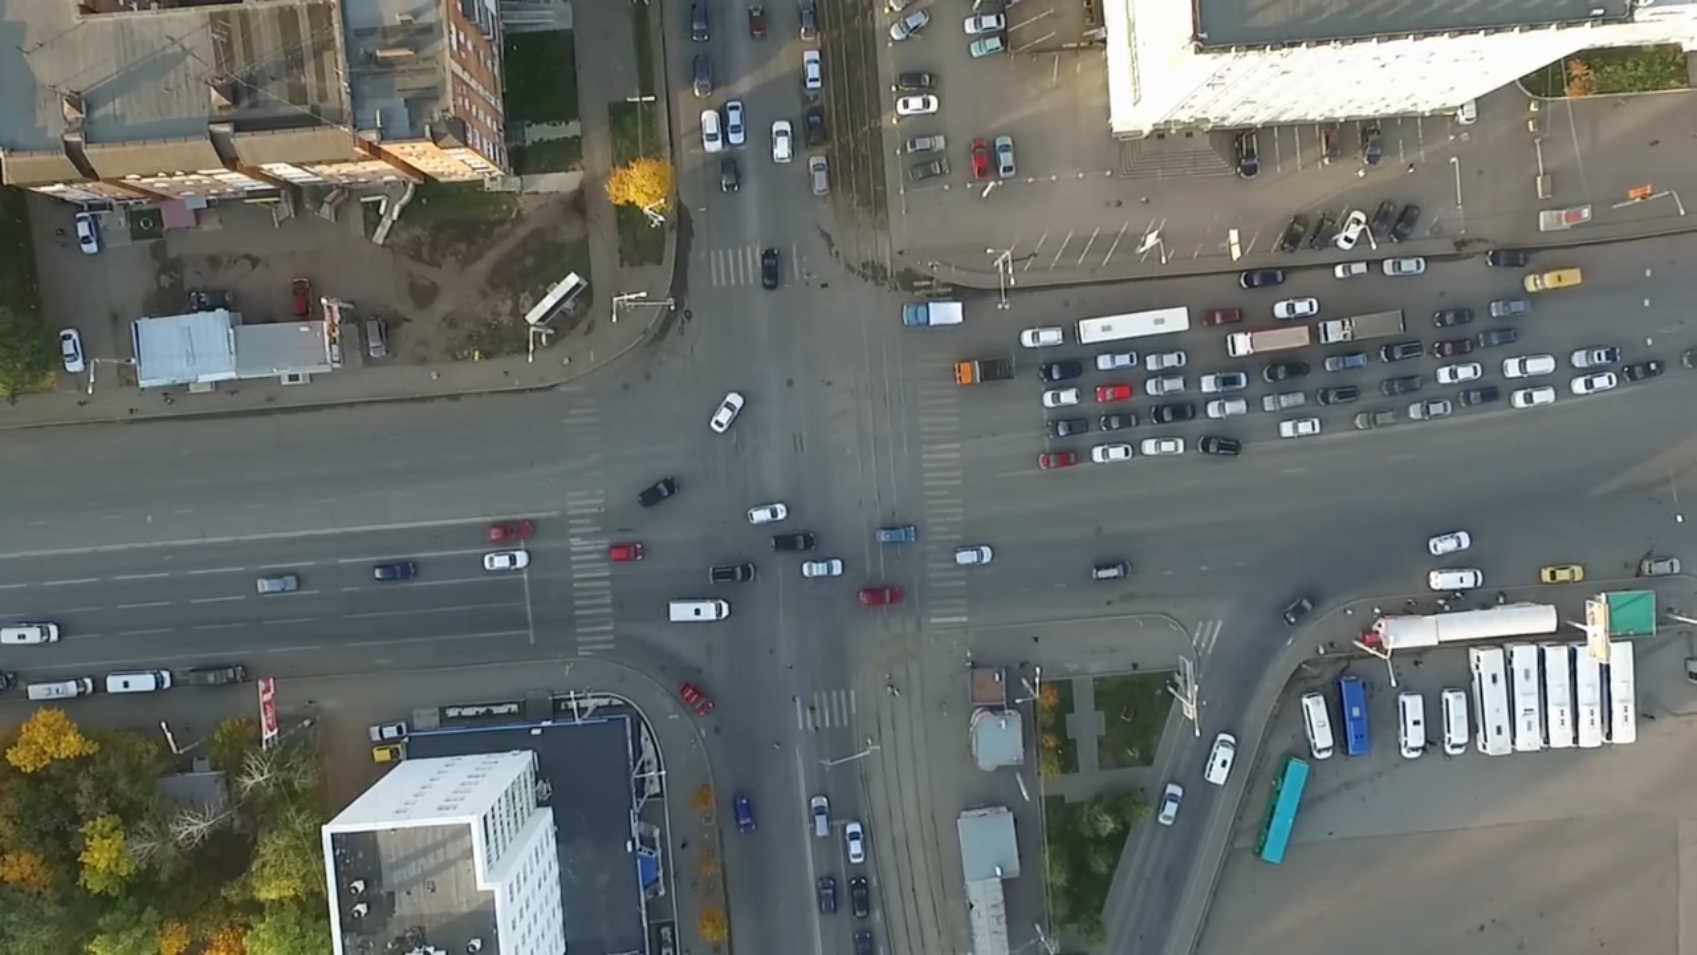car: (1467, 644, 1514, 757), (1068, 306, 1197, 342), (1504, 640, 1544, 752), (1536, 642, 1575, 747), (1599, 645, 1639, 745), (1317, 311, 1411, 345), (1571, 641, 1601, 745), (1339, 674, 1373, 759), (1225, 326, 1311, 357), (1395, 689, 1431, 761), (1296, 694, 1338, 756), (1525, 265, 1589, 297), (103, 666, 176, 694), (911, 300, 983, 328), (1441, 686, 1469, 754), (883, 9, 936, 45), (953, 354, 1018, 384), (1203, 730, 1235, 787), (638, 473, 683, 511), (1425, 566, 1485, 594), (1500, 351, 1558, 379), (184, 662, 245, 689), (1233, 131, 1266, 180), (24, 679, 100, 700), (697, 106, 728, 155), (671, 683, 720, 714), (709, 393, 746, 433), (669, 601, 735, 623), (476, 548, 530, 575), (1379, 252, 1429, 280), (1508, 384, 1559, 410), (1569, 344, 1622, 370), (1570, 370, 1621, 396), (362, 315, 392, 361), (1425, 527, 1472, 556), (1538, 560, 1590, 585), (56, 330, 86, 373), (690, 55, 718, 101), (756, 244, 784, 290), (730, 789, 758, 836), (1360, 125, 1389, 169), (1019, 324, 1066, 351), (1477, 323, 1525, 350), (1335, 208, 1365, 250), (1155, 782, 1184, 826), (1260, 389, 1311, 414), (800, 103, 828, 147), (1, 623, 59, 644), (1196, 431, 1241, 458), (73, 212, 101, 255), (1323, 351, 1372, 375), (962, 10, 1011, 35), (1235, 266, 1287, 289), (1038, 357, 1085, 382), (1274, 415, 1325, 438), (1281, 212, 1309, 254), (1090, 442, 1138, 466), (1407, 395, 1455, 420), (1149, 401, 1199, 424), (950, 545, 995, 570), (1393, 201, 1420, 244), (816, 879, 846, 917), (1319, 125, 1346, 167), (486, 521, 534, 545), (769, 118, 793, 166), (1435, 361, 1485, 384), (364, 719, 414, 742), (1270, 299, 1321, 321), (969, 136, 994, 180), (744, 503, 787, 528), (1279, 594, 1315, 624), (1093, 349, 1140, 372), (895, 69, 939, 93), (1034, 449, 1085, 470), (1090, 380, 1135, 403), (256, 573, 302, 596), (1200, 304, 1248, 326), (1140, 435, 1188, 457), (966, 35, 1009, 59), (1197, 374, 1256, 392), (369, 559, 416, 581), (1485, 247, 1531, 269), (895, 93, 944, 114), (808, 153, 830, 198), (1368, 197, 1392, 240), (1432, 335, 1476, 358), (1378, 340, 1425, 361), (1378, 375, 1425, 396), (1490, 296, 1530, 321), (1263, 360, 1310, 381), (1353, 408, 1400, 429), (709, 563, 755, 584), (810, 796, 831, 843), (874, 526, 921, 547), (801, 51, 825, 91), (1043, 385, 1080, 410), (851, 876, 873, 919), (1140, 375, 1188, 395), (725, 97, 745, 145), (293, 275, 314, 319), (1431, 308, 1476, 329), (603, 542, 645, 564), (772, 531, 814, 553), (798, 559, 843, 580), (1097, 412, 1143, 431), (1204, 399, 1251, 419), (1456, 387, 1502, 407), (1619, 360, 1666, 380), (1639, 556, 1682, 577), (1314, 210, 1336, 251), (909, 159, 955, 178), (1044, 417, 1090, 437), (997, 135, 1018, 177), (1318, 384, 1360, 405), (369, 744, 411, 765), (1145, 350, 1189, 370), (855, 587, 902, 605), (902, 134, 948, 153), (1087, 560, 1129, 580), (721, 155, 741, 195), (1330, 260, 1369, 279), (797, 7, 816, 45), (691, 1, 709, 42), (748, 3, 767, 40), (846, 822, 862, 862), (853, 929, 876, 955), (1458, 99, 1478, 125), (1680, 347, 1697, 370)
